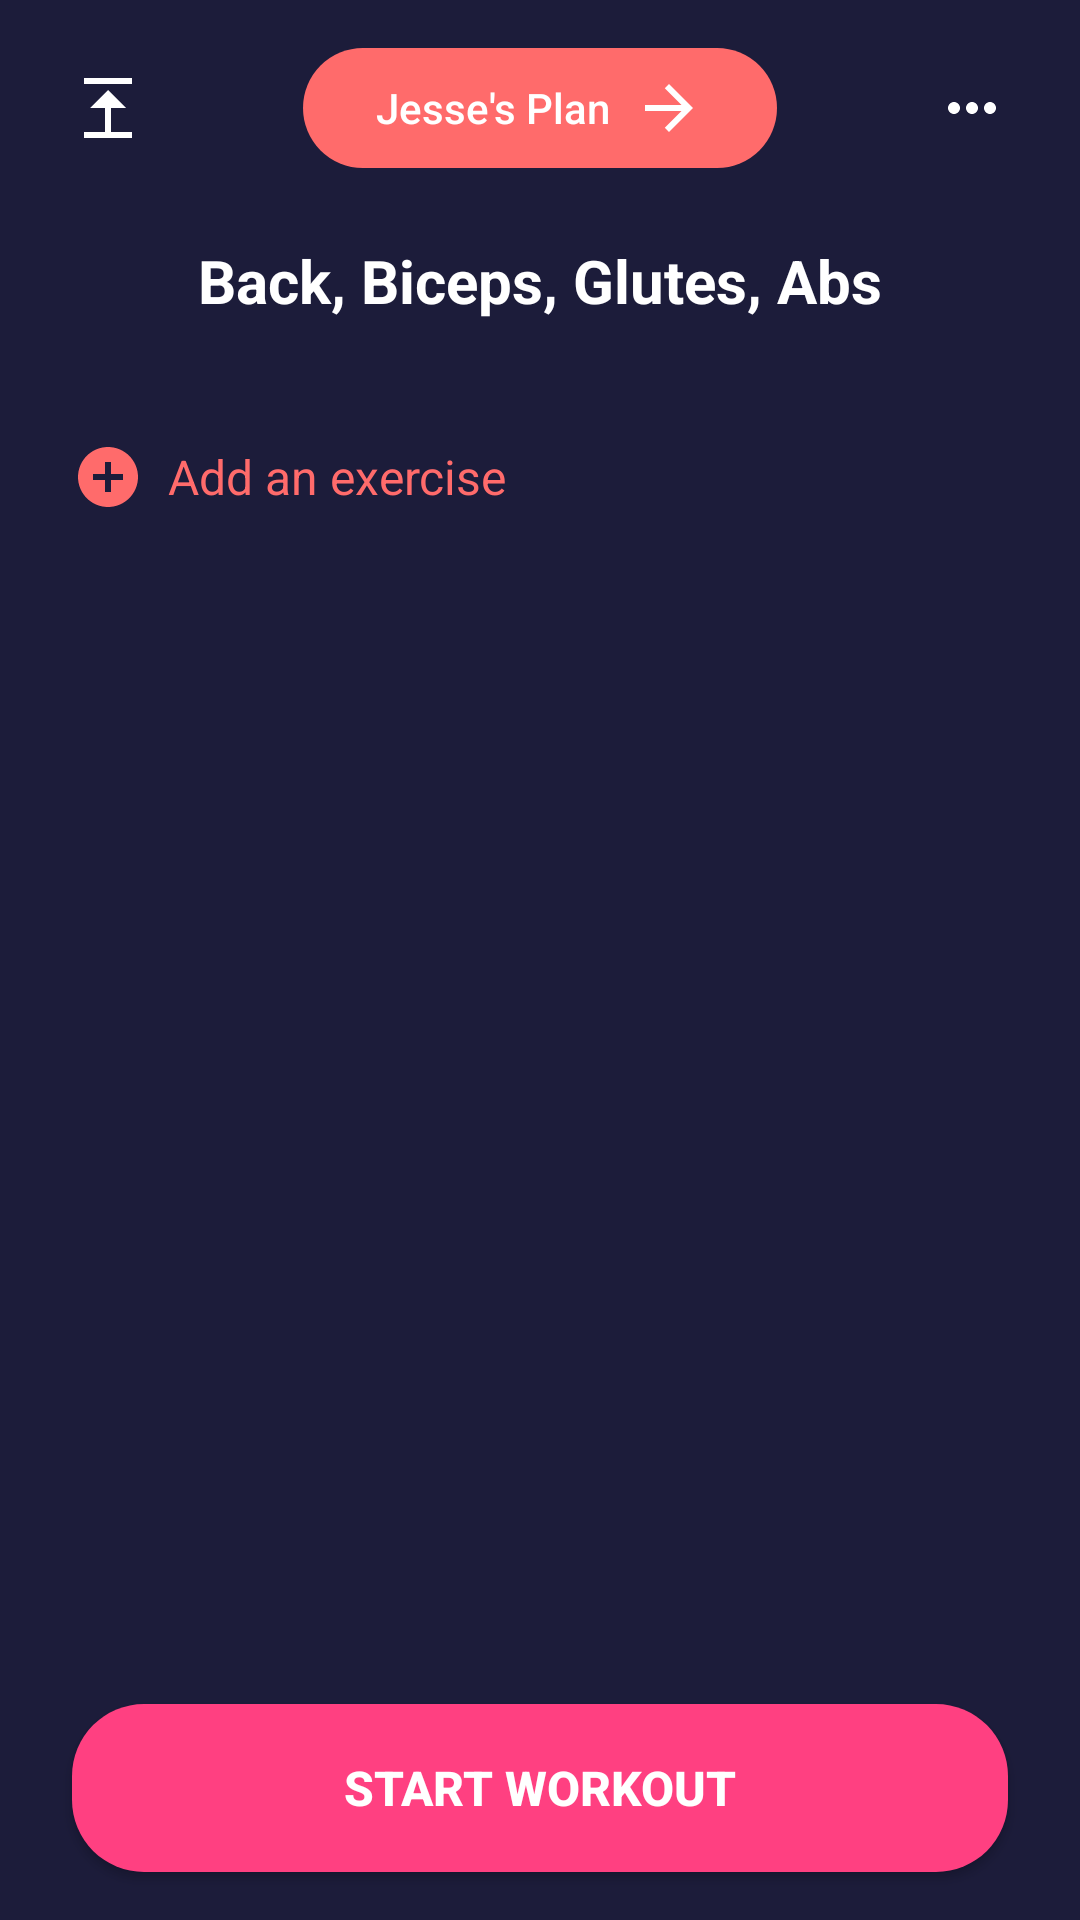

Named icons in this screenshot (1080 × 1920) and their bounding boxes, (x1, y1, x2, y2):
more horiz: (948, 102, 996, 114)
